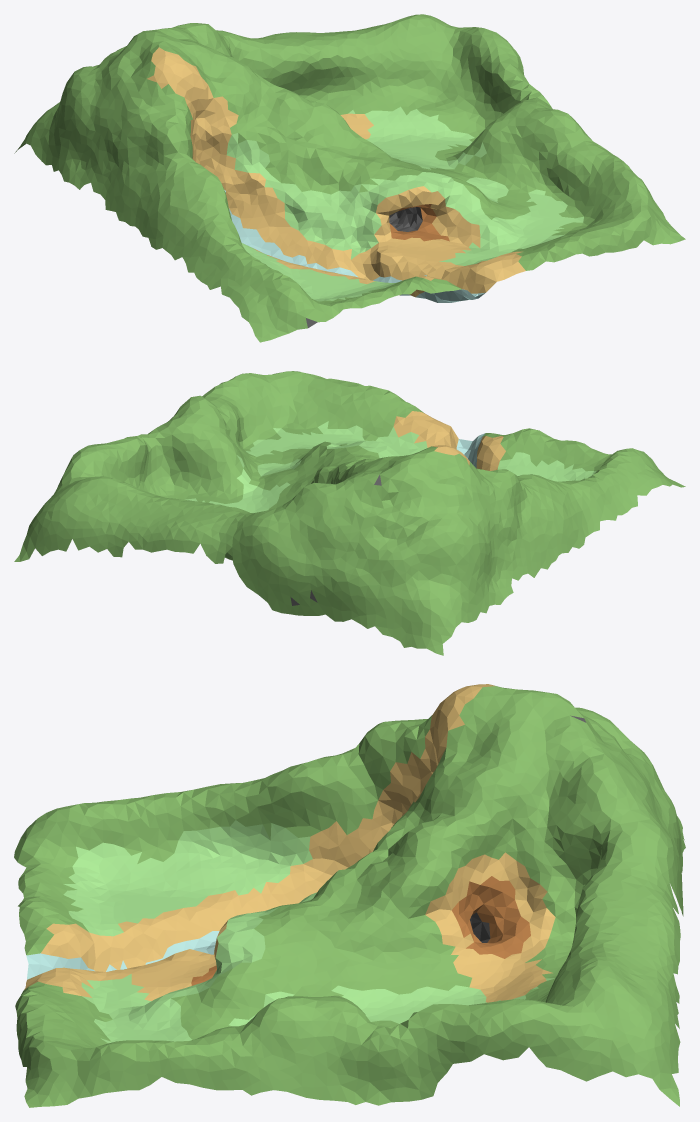
The picture shows the model from 3 angles, top to bottom: view 1: azimuth 30°, elevation 25°; view 2: azimuth 150°, elevation 25°; view 3: azimuth 270°, elevation 25°; orthographic projection. The views are drawn at different scales.
Visible parts, largest first — view 1: Plane; view 2: Plane; view 3: Plane.
Part boxes in pixels (x1,y1,x2,y2): Plane: [14, 14, 685, 342]; Plane: [14, 371, 685, 655]; Plane: [14, 684, 685, 1107].
Bounding box in the file's own units: 1630 × 675 × 1640.
